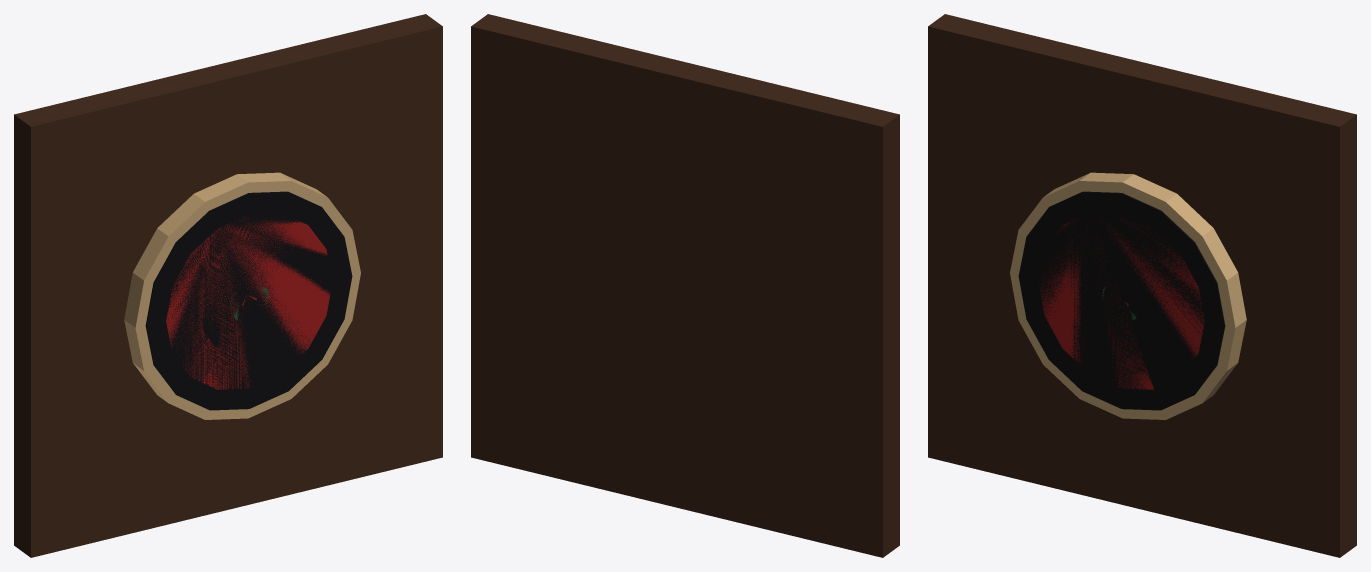
File: Dartboard.obj
3 renders of one model, left to right at view 1: azimuth 30°, elevation 25°; view 2: azimuth 150°, elevation 25°; view 3: azimuth 330°, elevation 25°, orthographic.
Visible parts, largest first — view 1: Dartboard; view 2: Dartboard; view 3: Dartboard.
Boxes of the visible parts, bbox=[...] form: Dartboard: bbox=[14, 14, 442, 557]; Dartboard: bbox=[471, 14, 899, 557]; Dartboard: bbox=[928, 14, 1356, 557].
Bounding box in the file's own units: 0.84 × 0.84 × 0.104.
Materials: 1 (1 with a texture image).
